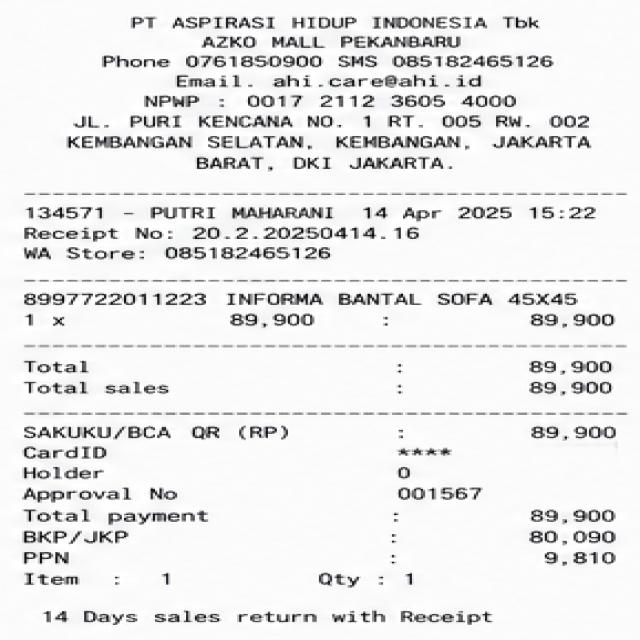date: (358, 204, 612, 222)
store: (127, 2, 552, 51)
total: (18, 504, 626, 526)
